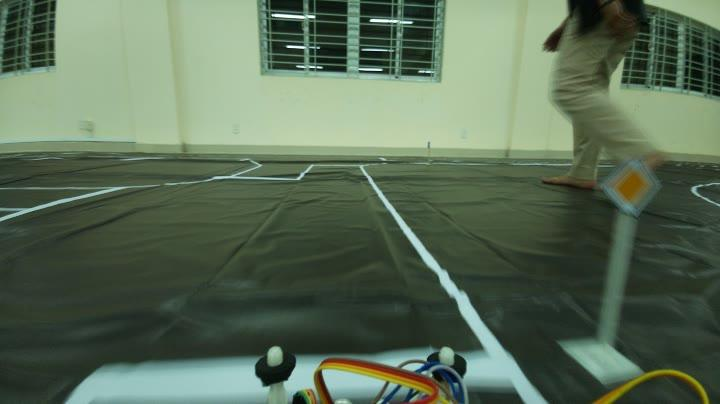priority: (600, 160, 666, 219)
